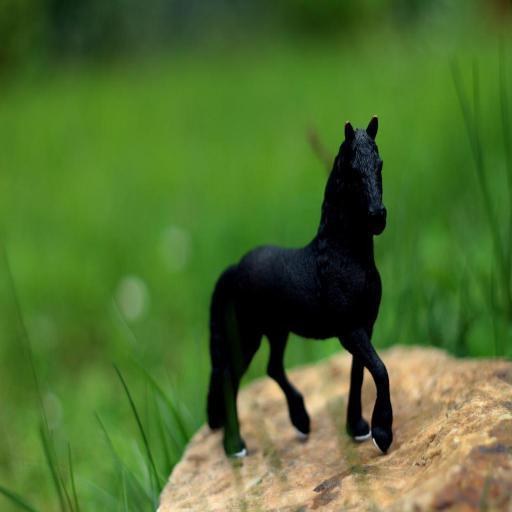horse: (203, 113, 393, 455)
